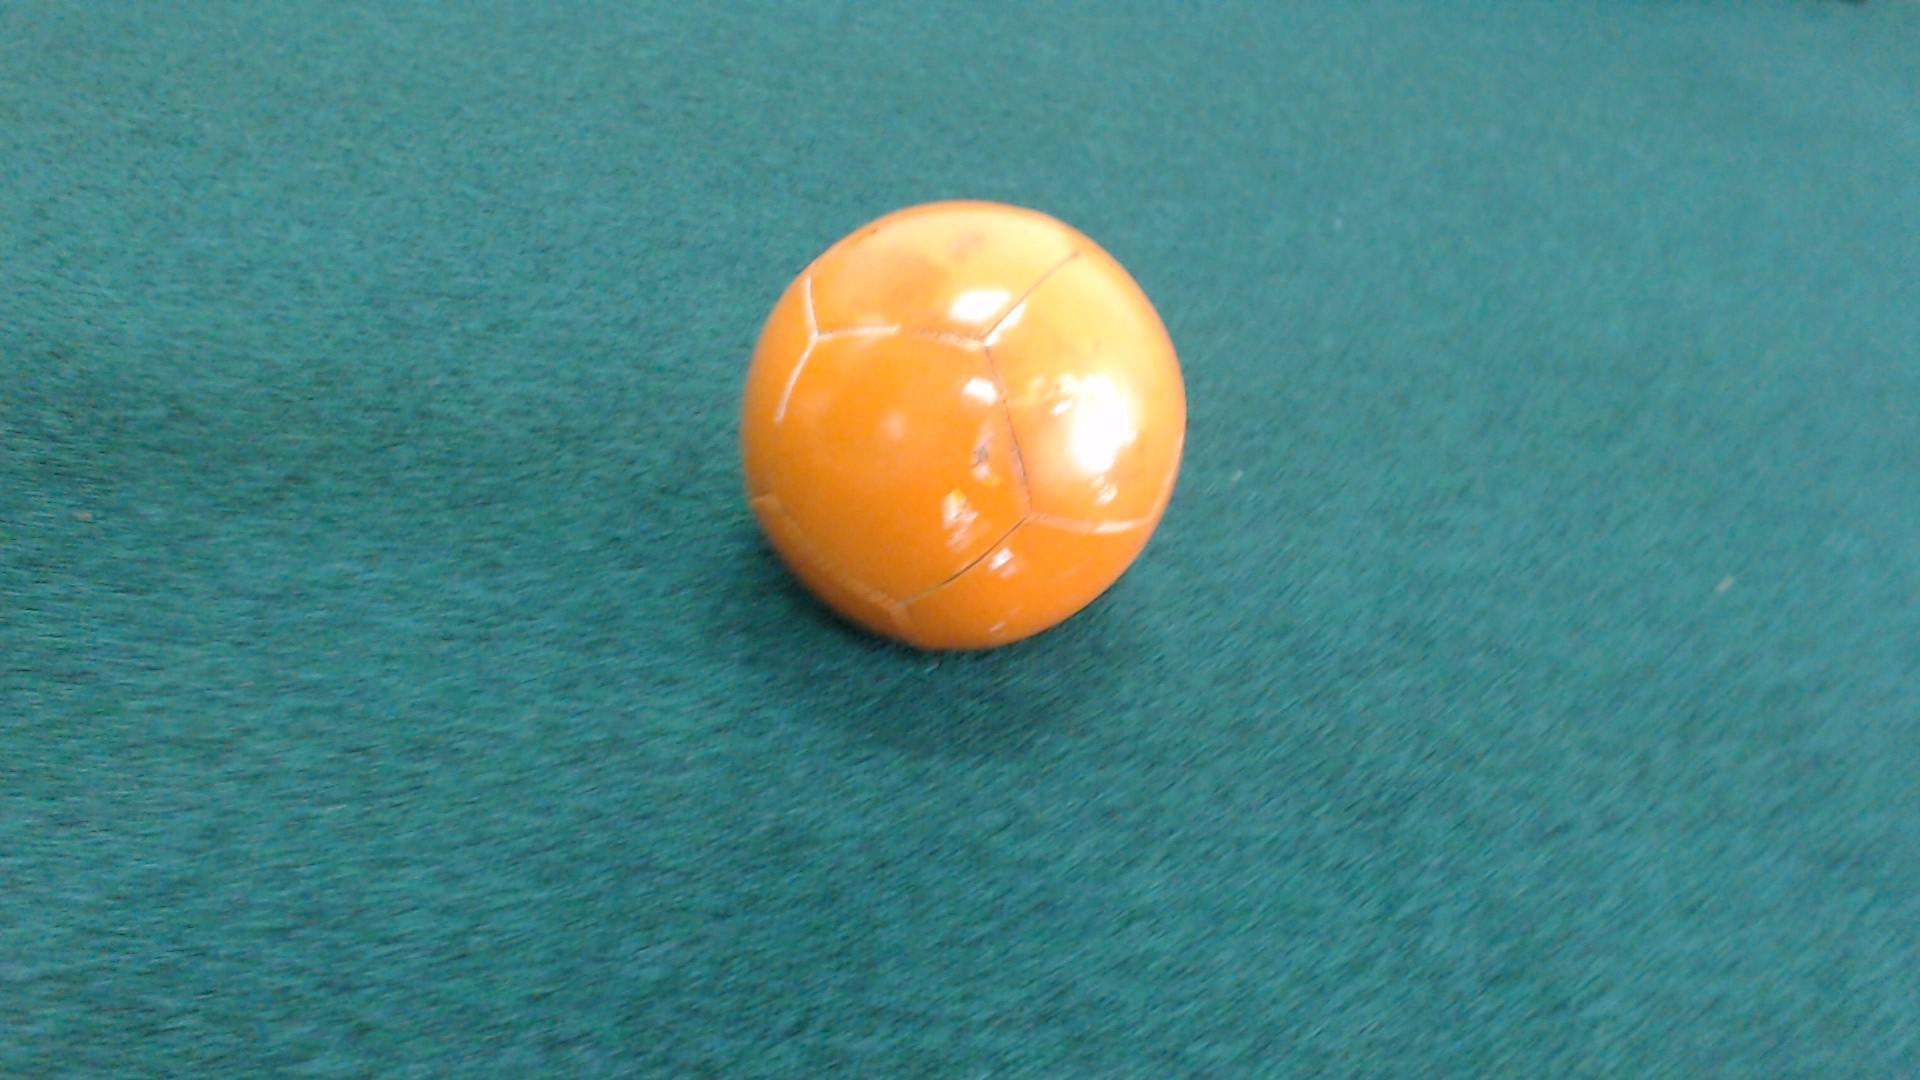bola: (691, 175, 1215, 663)
